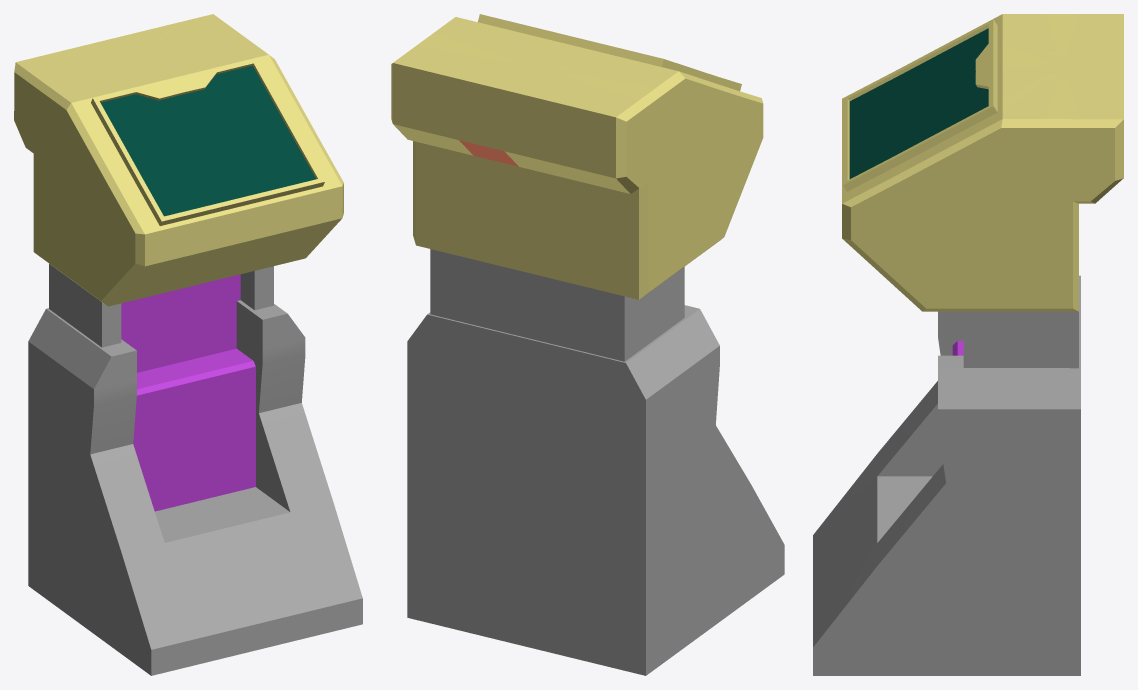
File: CodeElevator_MidRes_Scene02_Lobby.fbx
3 renders of one model, left to right at view 1: azimuth 30°, elevation 25°; view 2: azimuth 150°, elevation 25°; view 3: azimuth 270°, elevation 25°, orthographic. The views are drawn at different scales.
Parts seen in each view (by area): view 1: ElevatorCodeConsole_MidRes_Scene02_Lobby1, ElevatorCodeScreen_MidRes_Scene02_Lobby1; view 2: ElevatorCodeConsole_MidRes_Scene02_Lobby1; view 3: ElevatorCodeConsole_MidRes_Scene02_Lobby1, ElevatorCodeScreen_MidRes_Scene02_Lobby1.
Boxes of the visible parts, x1,y1,x2,y2 form: ElevatorCodeConsole_MidRes_Scene02_Lobby1: (14,14,362,675); ElevatorCodeScreen_MidRes_Scene02_Lobby1: (100,65,315,216); ElevatorCodeConsole_MidRes_Scene02_Lobby1: (391,14,784,675); ElevatorCodeConsole_MidRes_Scene02_Lobby1: (813,14,1123,675); ElevatorCodeScreen_MidRes_Scene02_Lobby1: (849,28,988,178).
Bounding box in the file's own units: 46.82 × 108 × 54.66.
